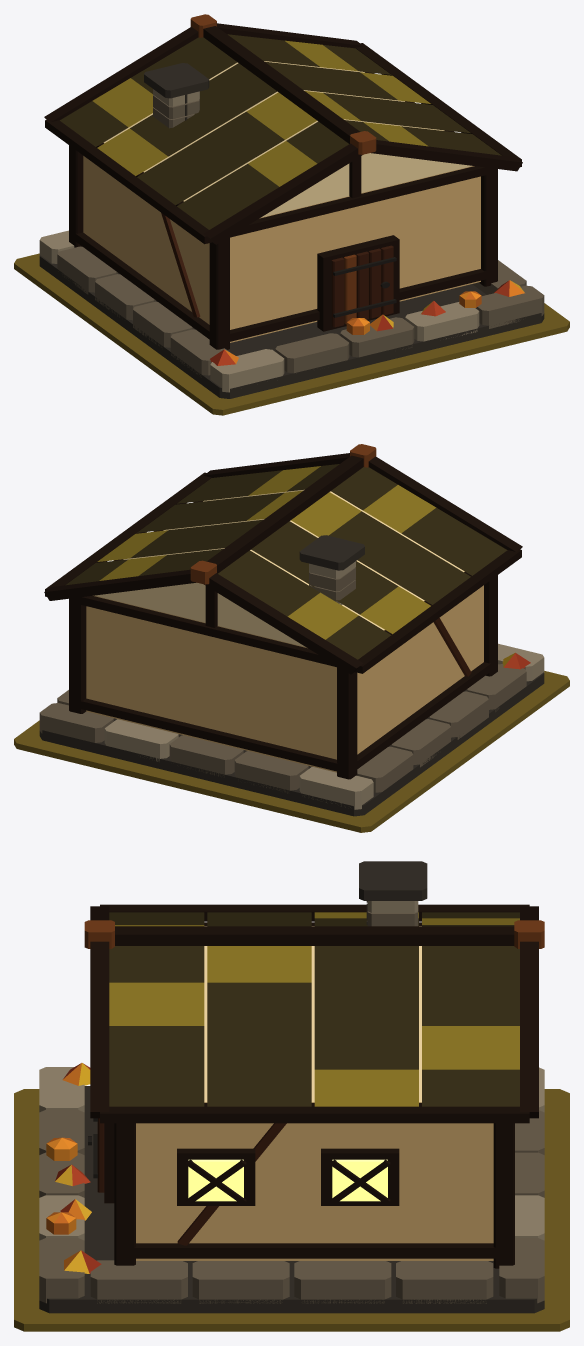
The model's file is longhouse_t3.glb.
3 views of the same model, one above another, from view 1: azimuth 30°, elevation 25°; view 2: azimuth 150°, elevation 25°; view 3: azimuth 270°, elevation 25° (orthographic). The views are drawn at different scales.
Visible parts, largest first — view 1: MMR | longhouse | T03 Architecture.001, MMR | longhouse | Tier 03 Ground.001, MMR | longhouse | T03 Autumn Dressing.001; view 2: MMR | longhouse | T03 Architecture.001, MMR | longhouse | Tier 03 Ground.001; view 3: MMR | longhouse | T03 Architecture.001, MMR | longhouse | Tier 03 Ground.001, MMR | longhouse | T03 Autumn Dressing.001.
Boxes of the visible parts, left/top/right/bottom form: MMR | longhouse | T03 Architecture.001: left=39, top=14, right=544, bottom=398; MMR | longhouse | Tier 03 Ground.001: left=14, top=253, right=569, bottom=415; MMR | longhouse | T03 Autumn Dressing.001: left=210, top=280, right=524, bottom=365; MMR | longhouse | T03 Architecture.001: left=39, top=444, right=544, bottom=816; MMR | longhouse | Tier 03 Ground.001: left=14, top=671, right=569, bottom=832; MMR | longhouse | T03 Architecture.001: left=39, top=861, right=544, bottom=1313; MMR | longhouse | Tier 03 Ground.001: left=14, top=1089, right=569, bottom=1331; MMR | longhouse | T03 Autumn Dressing.001: left=46, top=1063, right=101, bottom=1273.
Size of the model in its own units: 3.3 by 1.89 by 3.3.
Materials: 2 (1 with a texture image).
